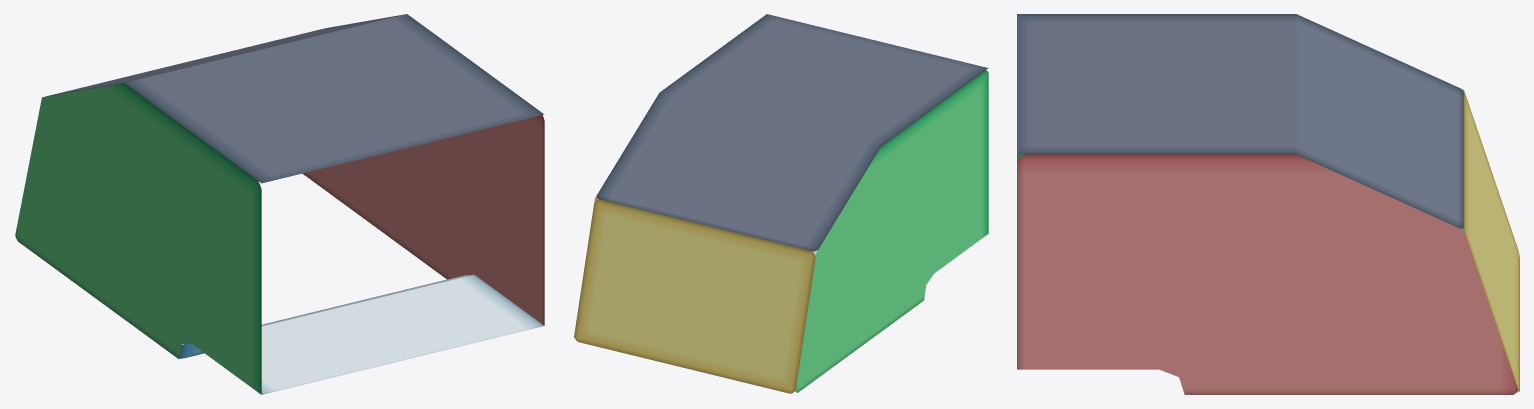
Rendered from curve-joint.fbx.
3 renders of one model, left to right at view 1: azimuth 30°, elevation 25°; view 2: azimuth 150°, elevation 25°; view 3: azimuth 270°, elevation 25°, orthographic. The views are drawn at different scales.
Parts seen in each view (by area): view 1: up-joint; view 2: up-joint; view 3: up-joint.
Boxes of the visible parts, x1=… form: up-joint: x1=15, y1=14, x2=544, y2=394; up-joint: x1=574, y1=14, x2=988, y2=393; up-joint: x1=1017, y1=14, x2=1519, y2=394.
Size of the model in its own units: 18.59 by 14.84 by 28.12.
Materials: 1 (1 with a texture image).
